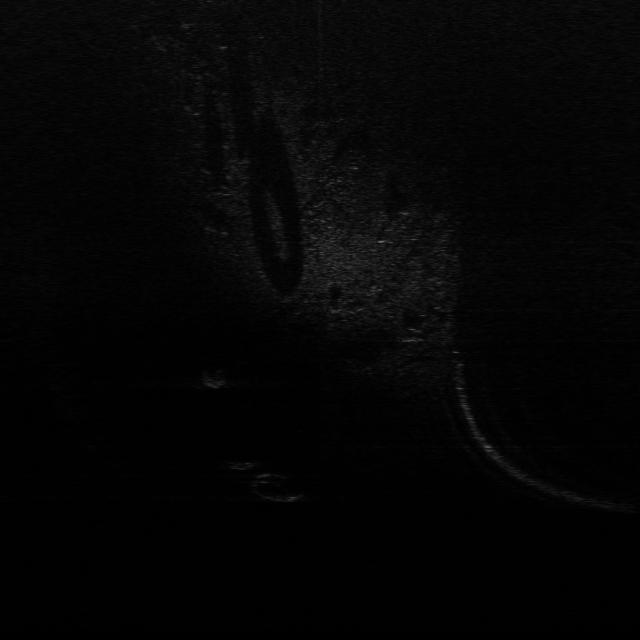cube: (223, 455, 262, 472)
square cage: (194, 368, 232, 390)
tyre: (247, 471, 309, 504)
